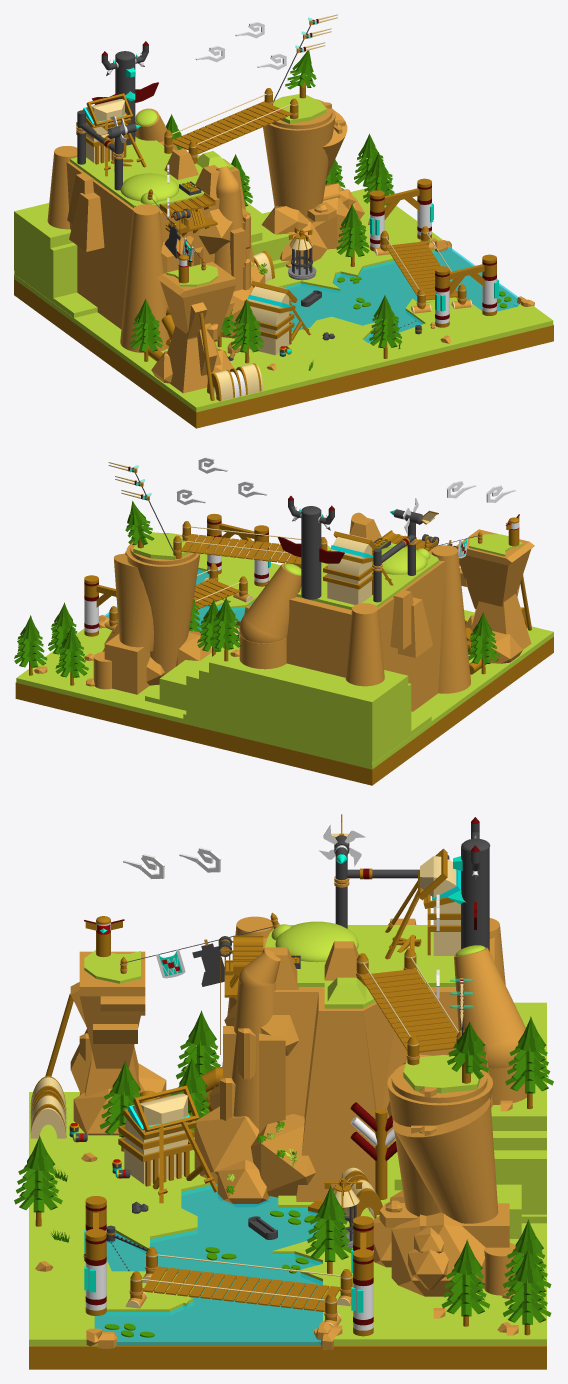
Rendered from Journey.glb.
3 renders of one model, top to bottom at view 1: azimuth 30°, elevation 25°; view 2: azimuth 150°, elevation 25°; view 3: azimuth 270°, elevation 25°, orthographic. The views are drawn at different scales.
Parts seen in each view (by area): view 1: box (×17), truncatedCone (×6), truncatedPyramid4 (×7), icosahedron (×5), hemisphere, quarterAnnulus, cylinder; view 2: box (×18), truncatedCone (×5), truncatedPyramid4 (×5), cylinder (×5), icosahedron (×3), quarterAnnulus, hemisphere, sphere; view 3: box (×19), truncatedCone (×6), truncatedPyramid4 (×7), icosahedron (×8), cylinder (×6), wedge (×3), hemisphere, sphere, quarterAnnulus.
Boxes of the visible parts, left/top/right/bottom form: box (×17): left=14, top=136, right=553, bottom=428; truncatedCone (×6): left=47, top=108, right=347, bottom=352; truncatedPyramid4 (×7): left=67, top=149, right=235, bottom=393; icosahedron (×5): left=198, top=183, right=361, bottom=338; hemisphere: left=120, top=173, right=178, bottom=201; quarterAnnulus: left=248, top=286, right=289, bottom=331; cylinder: left=115, top=56, right=135, bottom=145; box (×18): left=15, top=529, right=553, bottom=785; truncatedCone (×5): left=113, top=543, right=470, bottom=693; truncatedPyramid4 (×5): left=349, top=517, right=531, bottom=657; cylinder (×5): left=93, top=510, right=381, bottom=689; icosahedron (×3): left=102, top=625, right=522, bottom=685; quarterAnnulus: left=327, top=537, right=371, bottom=581; hemisphere: left=372, top=546, right=427, bottom=574; sphere: left=239, top=614, right=286, bottom=643; box (×19): left=29, top=925, right=546, bottom=1369; truncatedCone (×6): left=222, top=916, right=525, bottom=1223; truncatedPyramid4 (×7): left=79, top=941, right=376, bottom=1201; icosahedron (×8): left=73, top=1004, right=485, bottom=1296; cylinder (×6): left=335, top=843, right=527, bottom=1295; wedge (×3): left=93, top=992, right=458, bottom=1147; hemisphere: left=275, top=921, right=358, bottom=962; sphere: left=486, top=1034, right=526, bottom=1068; quarterAnnulus: left=433, top=856, right=460, bottom=921.
Bounding box in the file's own units: 406 × 263 × 362.
